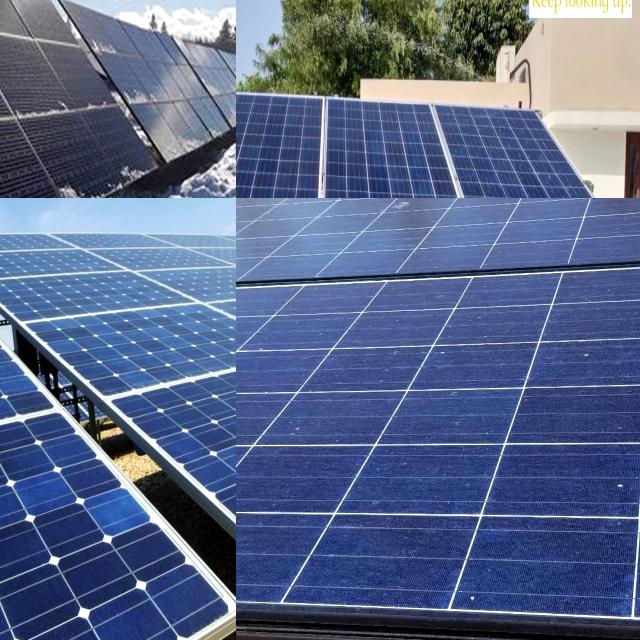crack: (21, 272, 236, 424), (0, 463, 162, 640), (0, 327, 130, 487), (236, 81, 343, 198), (236, 80, 309, 198), (189, 415, 236, 515)
dust: (370, 298, 516, 436), (538, 272, 640, 435), (334, 517, 456, 618), (236, 307, 329, 437), (486, 520, 634, 601), (511, 454, 638, 514), (378, 439, 486, 506), (236, 516, 308, 596), (242, 458, 338, 502)
panel: (0, 93, 89, 145), (35, 164, 154, 198), (23, 97, 104, 130), (162, 126, 212, 170), (0, 104, 55, 136), (122, 81, 170, 115), (82, 32, 130, 62), (208, 72, 233, 110)
